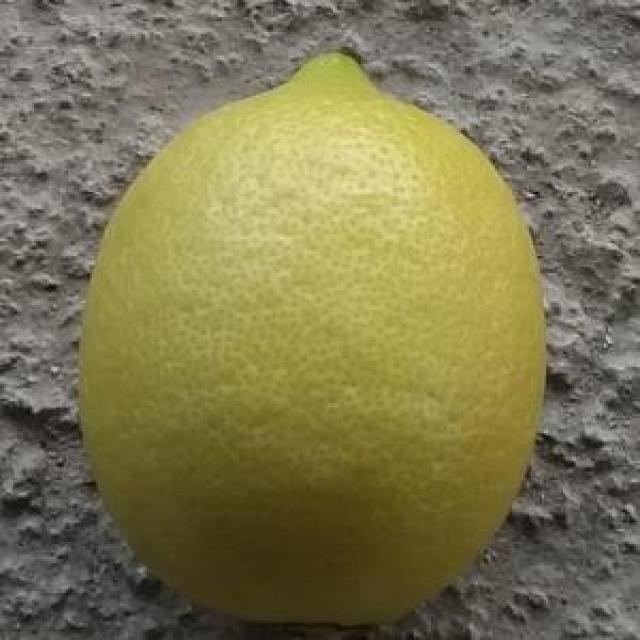lemon: (75, 51, 548, 630)
